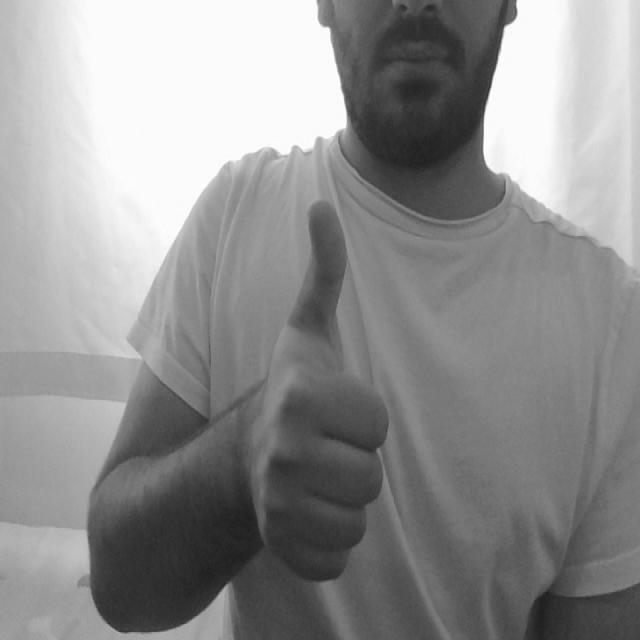Tamam: (228, 193, 392, 604)
